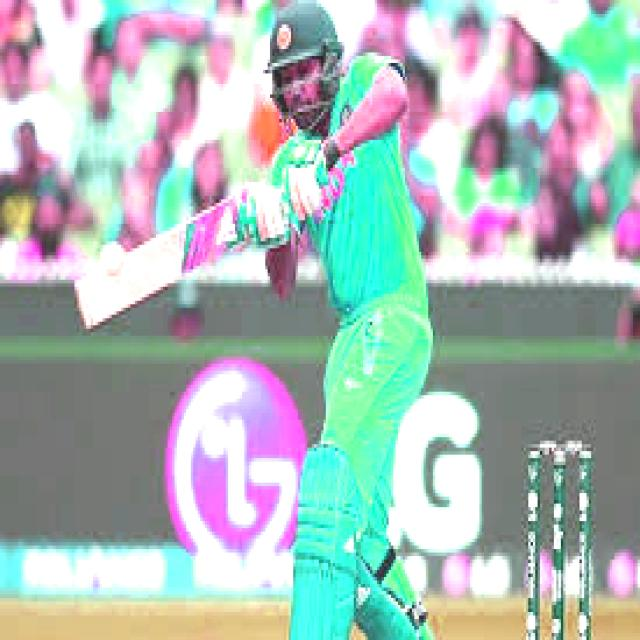toe: (67, 280, 98, 335)
